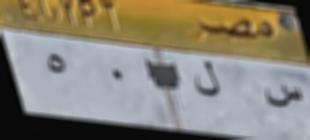0: (105, 62, 133, 90)
5: (43, 51, 68, 80)
laam: (192, 59, 222, 100)
seen: (264, 80, 304, 113)
